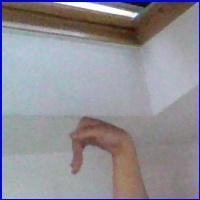del: (65, 112, 133, 180)
